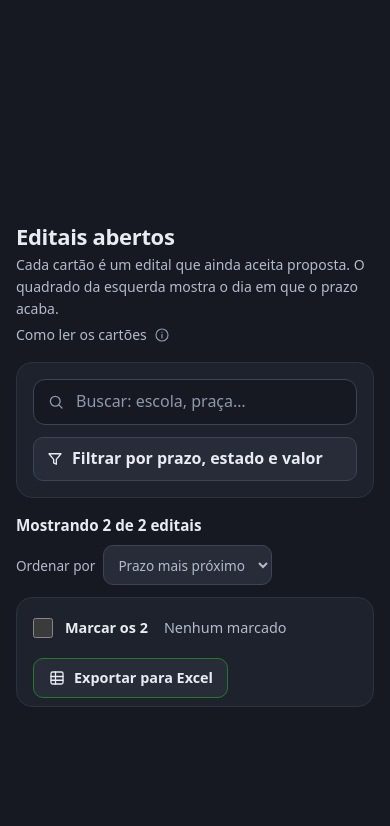
Scenario: App › o botão de filtros do celular abre e fecha o painel e conta o que está escolhido
The image size is (390, 826).
(page scrolled)
Step 1. Click the button "Filtrar por prazo, estado e valor" → x=195, y=458, box [33,436,357,480]
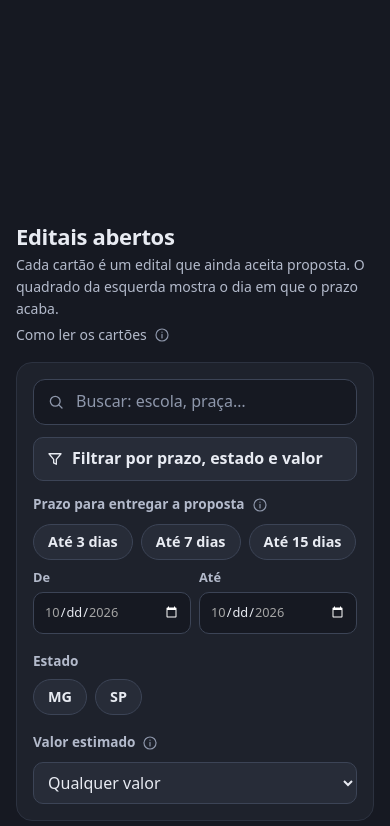
Step 2. Click the button "SP" → x=118, y=697, box [95,679,142,715]
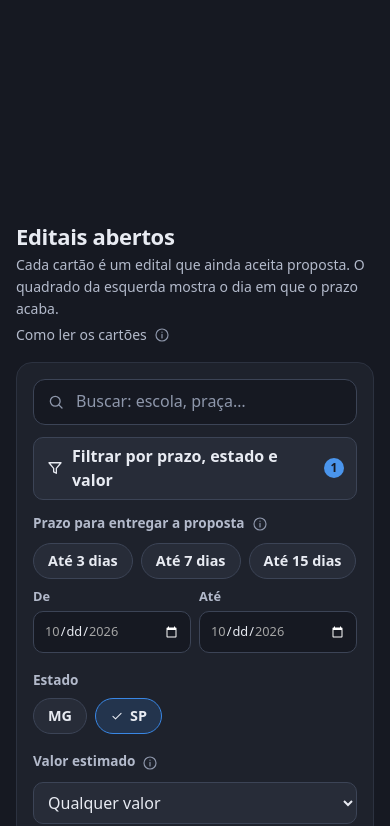
Step 3. Click the button "Até 7 dias" → x=191, y=561, box [141,543,241,579]
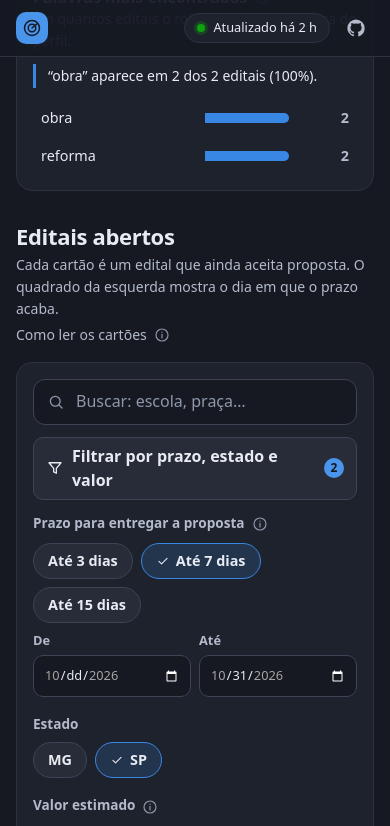
Now the text "2" below "Como ler os cartões" is shown, box [331,459,338,476]
